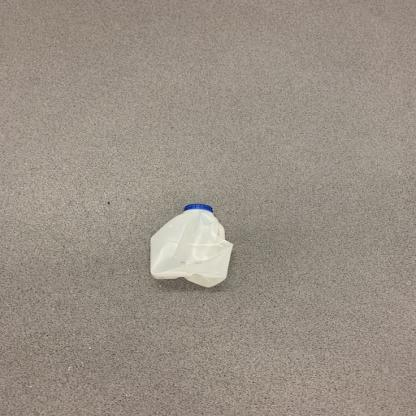trash: (148, 200, 239, 292)
